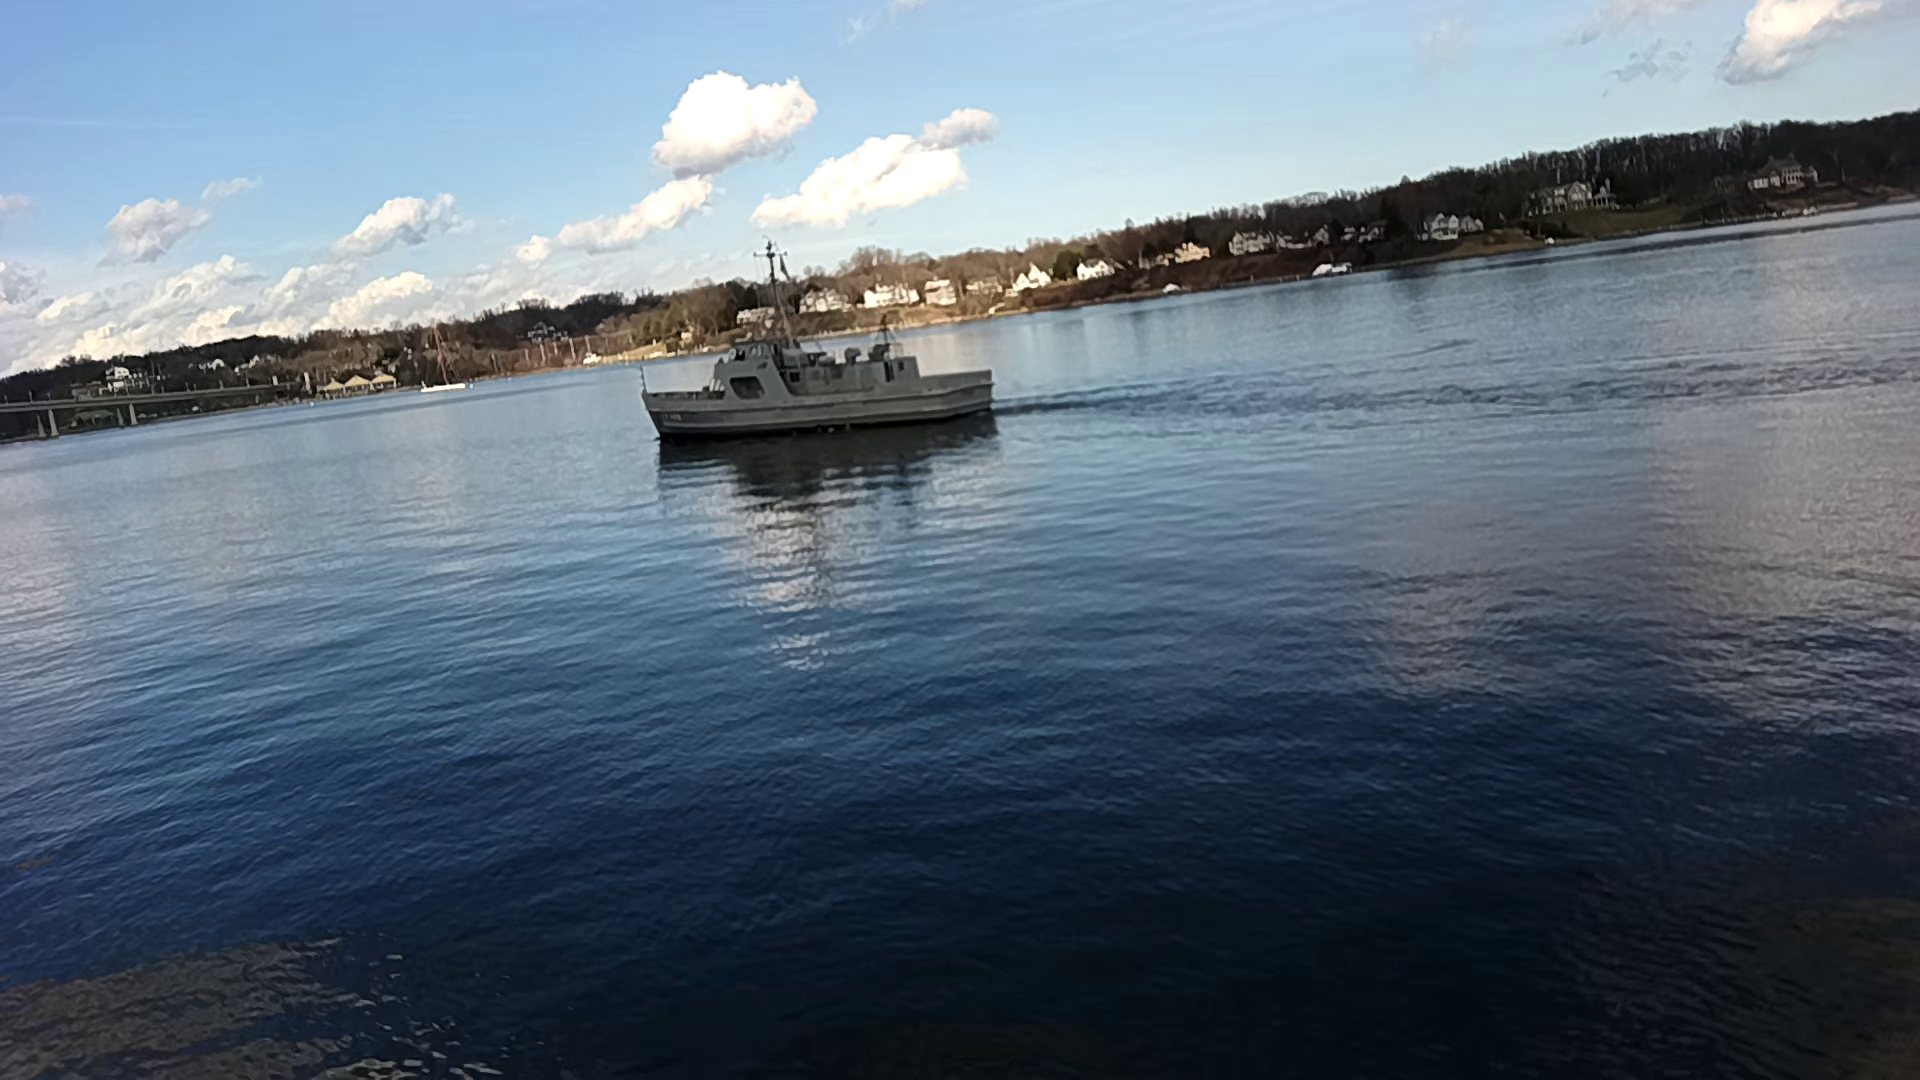YP689: (640, 241, 996, 436)
